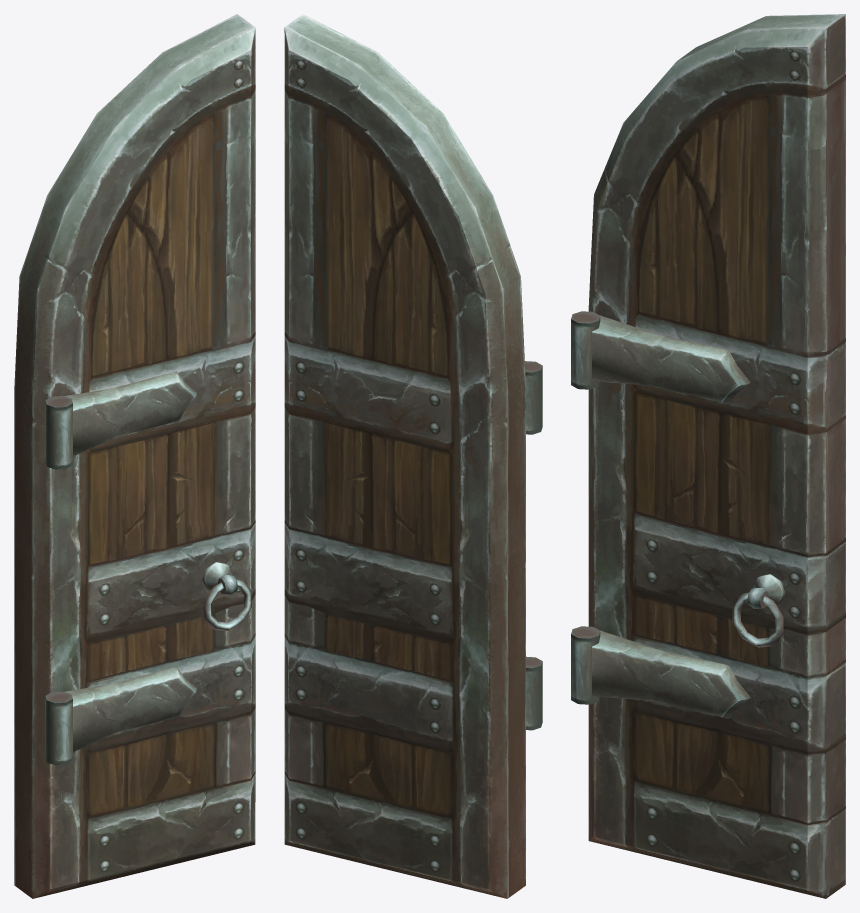
Rendered from Door_01.FBX.
The picture shows the model from 3 angles, left to right: view 1: azimuth 30°, elevation 25°; view 2: azimuth 150°, elevation 25°; view 3: azimuth 330°, elevation 25°; orthographic projection. The views are drawn at different scales.
Visible parts, largest first — view 1: Door_01; view 2: Door_01; view 3: Door_01.
Boxes of the visible parts, box(x1,y1,x2,y2) form: Door_01: box(14, 14, 255, 898); Door_01: box(284, 14, 542, 898); Door_01: box(571, 14, 845, 898).
Bounding box in the file's own units: 138 × 51.42 × 481.
